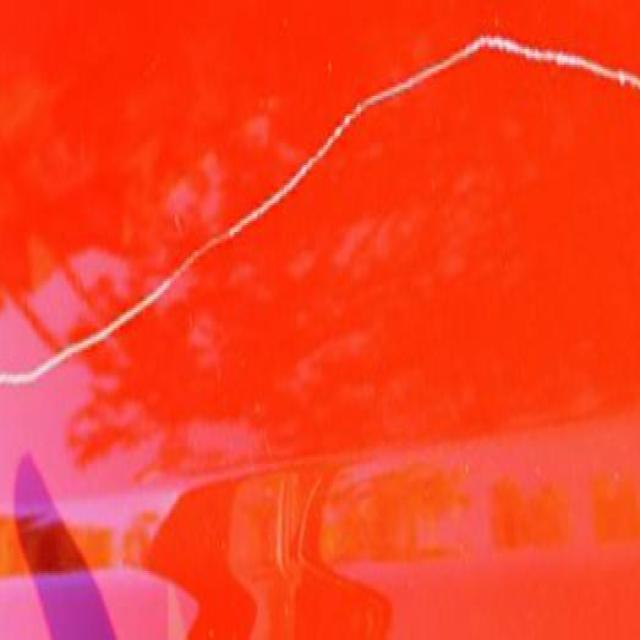scratch: (0, 29, 634, 399)
